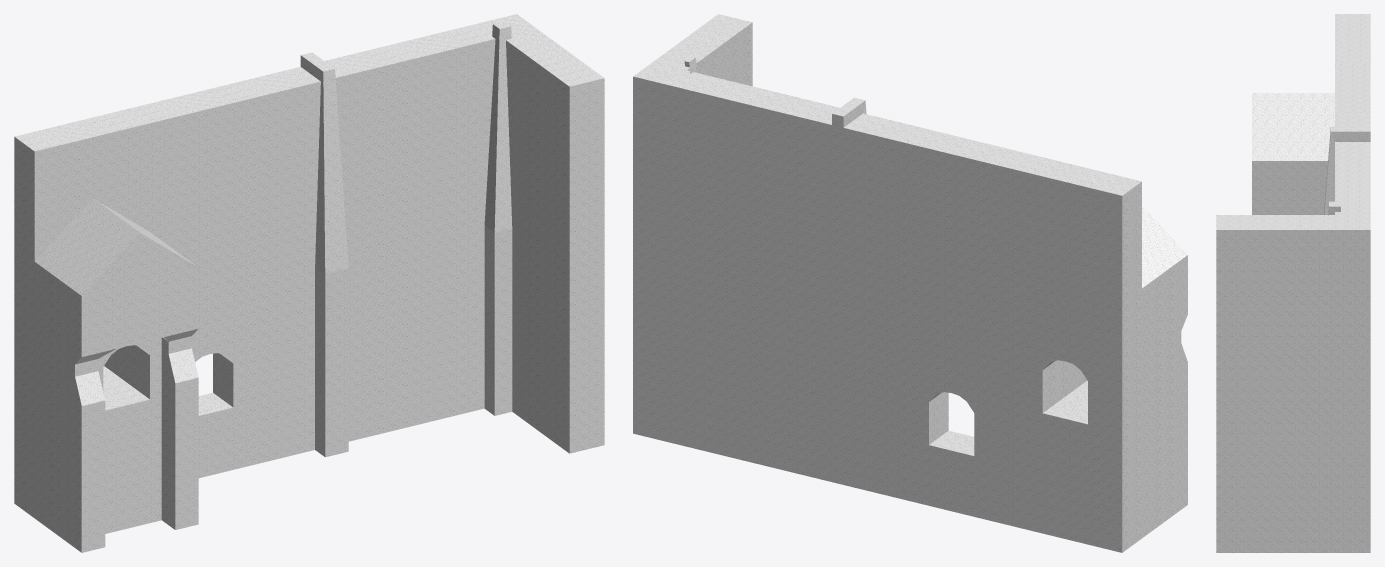
Rendered from mod_districtWall_01.fbx.
3 views of the same model, side by side, from view 1: azimuth 30°, elevation 25°; view 2: azimuth 150°, elevation 25°; view 3: azimuth 270°, elevation 25° (orthographic). The views are drawn at different scales.
Parts seen in each view (by area): view 1: wall_corner, wall_magistrate, wall_part, wall_gate; view 2: wall_magistrate, wall_corner, wall_part, wall_gate; view 3: wall_corner, wall_magistrate, wall_part, wall_gate.
Part boxes in pixels (x1,y1,x2,y2): wall_corner: (365,14,604,453); wall_magistrate: (14,108,198,552); wall_part: (248,51,385,461); wall_gate: (131,79,268,478); wall_magistrate: (1008,153,1187,552); wall_corner: (633,14,800,469); wall_part: (781,97,913,497); wall_gate: (894,126,1027,524); wall_corner: (1216,164,1370,552); wall_magistrate: (1252,14,1370,214); wall_part: (1323,114,1370,214); wall_gate: (1335,64,1370,114).
Size of the model in its own units: 43 by 31 by 13.
